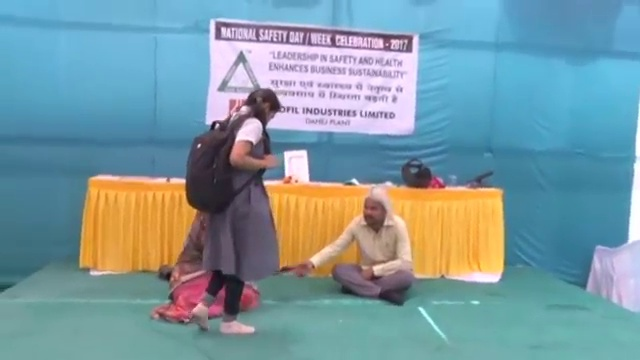helmet_off: (250, 91, 279, 126), (363, 197, 387, 229)
person: (181, 88, 280, 334), (295, 197, 413, 304)
